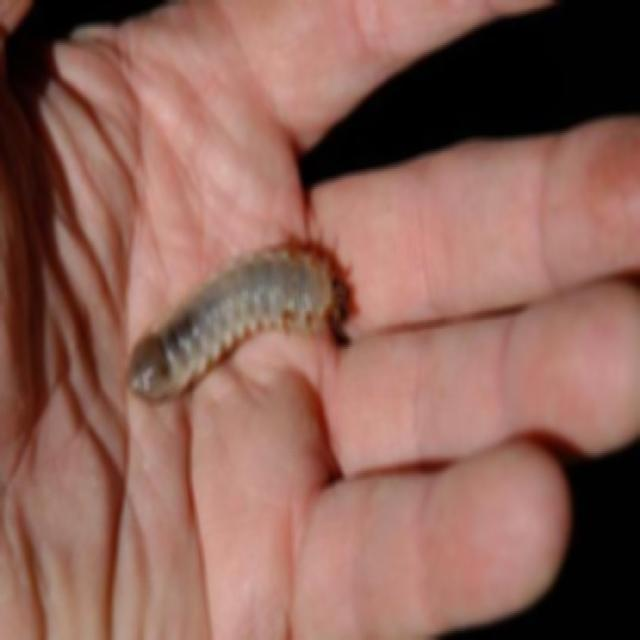grub: (130, 240, 363, 407)
